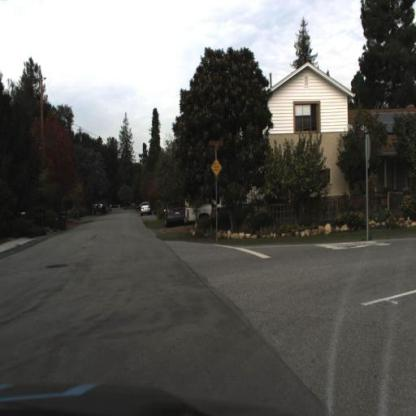car: (186, 198, 237, 231), (162, 201, 185, 232), (165, 202, 186, 228), (140, 199, 152, 217), (141, 202, 152, 217)
